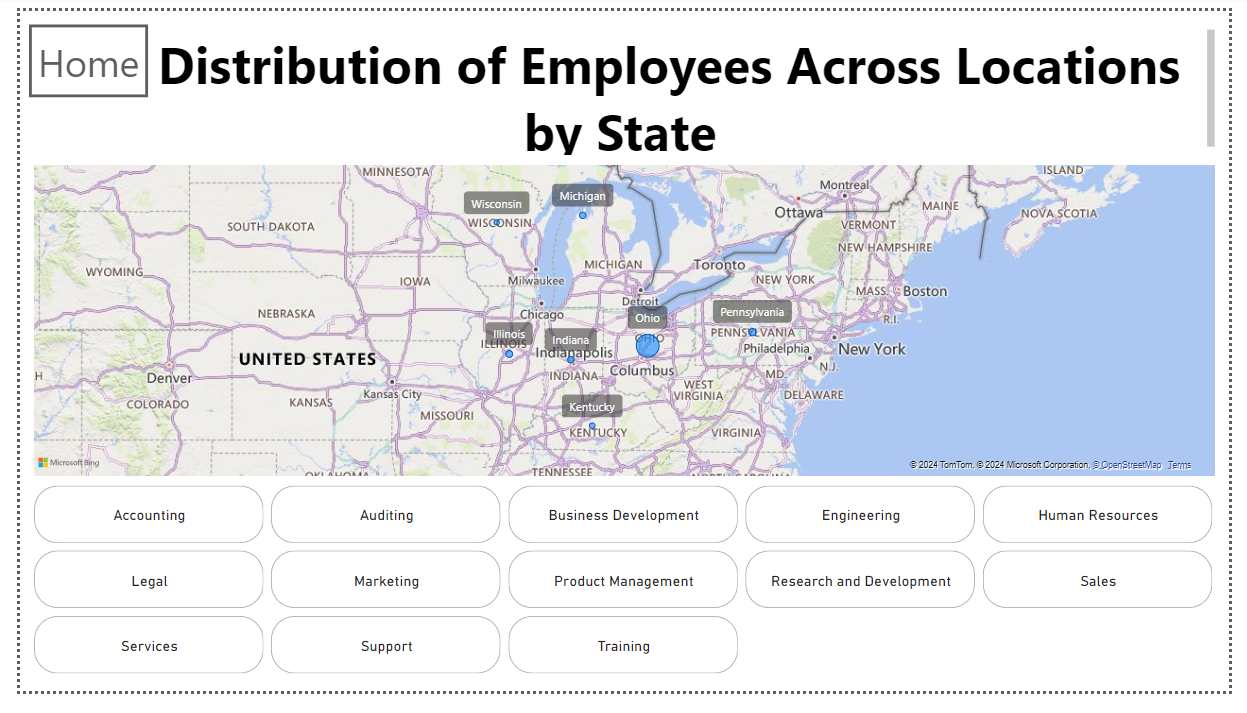

The dashboard page shown, as its layout file describes it:
{"tool":"powerbi","page":{"name":"Distribution of Employees Across Locations by State","canvas":[1280,720],"ordinal":9},"visuals":[{"type":"advancedSlicerVisual","fields":{"Values":["hr.department"]},"box":[9.7,497.1,1259.8,210.5],"z":0},{"type":"textbox","box":[9.7,14.6,1259.8,142.5],"z":1000},{"type":"map","fields":{"Category":["hr.location_state"],"Size":["CountNonNull(hr.emp_id)"]},"box":[9.7,157.1,1259.8,340],"z":1001},{"type":"actionButton","box":[9,14,126,77],"z":1002}]}

Visuals, with their boxes in screenshot pixels (x1, y1, x2, y2), scaled from the page's 1280x720 canvas onto the 1247x713 screenshot:
advancedSlicerVisual - hr.department: locate(9, 492, 1237, 701)
textbox: locate(9, 14, 1237, 156)
map - hr.location_state x CountNonNull(hr.emp_id): locate(9, 156, 1237, 492)
actionButton: locate(9, 14, 132, 90)
